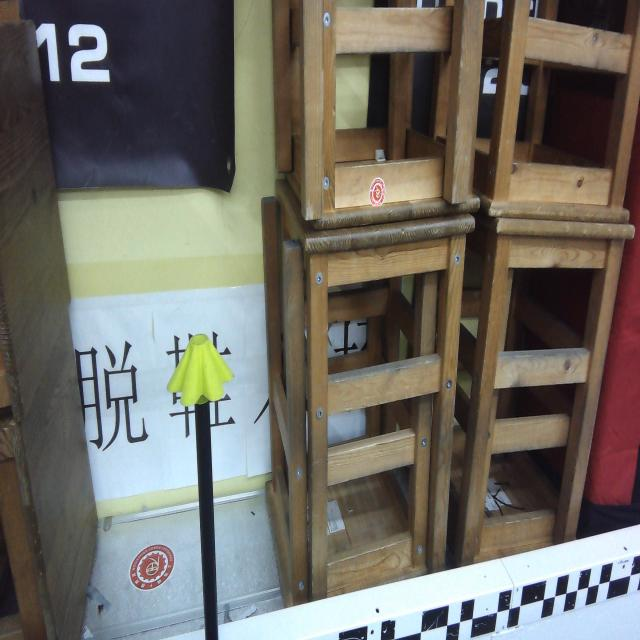Yellow-Stake-Head: (166, 334, 234, 406)
